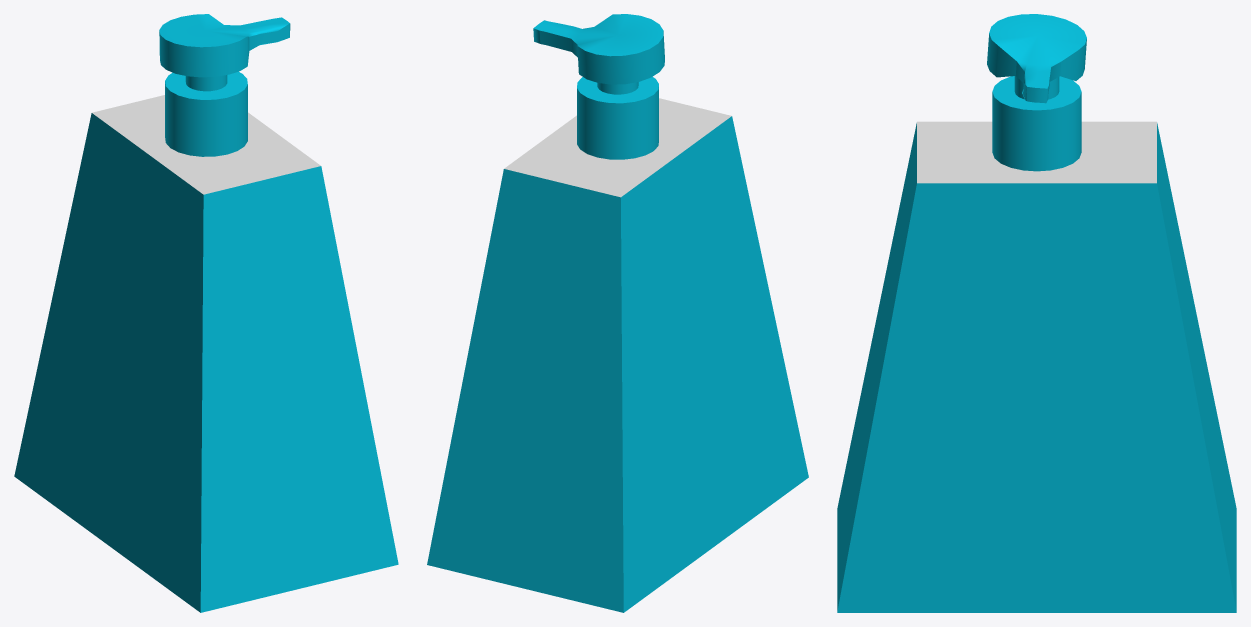
Rendered from alcool.fbx.
The picture shows the model from 3 angles, left to right: view 1: azimuth 30°, elevation 25°; view 2: azimuth 150°, elevation 25°; view 3: azimuth 270°, elevation 25°; orthographic projection. The views are drawn at different scales.
Visible parts, largest first — view 1: tubo, tampa2, tampa3, tampa1; view 2: tubo, tampa3, tampa2; view 3: tubo, tampa2, tampa3.
Part boxes in pixels (left/top/right/bottom): tubo: left=14, top=95, right=398, bottom=612; tampa2: left=165, top=71, right=247, bottom=156; tampa3: left=159, top=14, right=290, bottom=77; tampa1: left=185, top=75, right=227, bottom=91; tubo: left=427, top=98, right=808, bottom=612; tampa3: left=533, top=14, right=664, bottom=84; tampa2: left=577, top=77, right=658, bottom=159; tubo: left=837, top=121, right=1236, bottom=612; tampa2: left=992, top=76, right=1081, bottom=171; tampa3: left=987, top=14, right=1086, bottom=103.
Bounding box in the file's own units: 0.2424 × 0.5762 × 0.3952.
